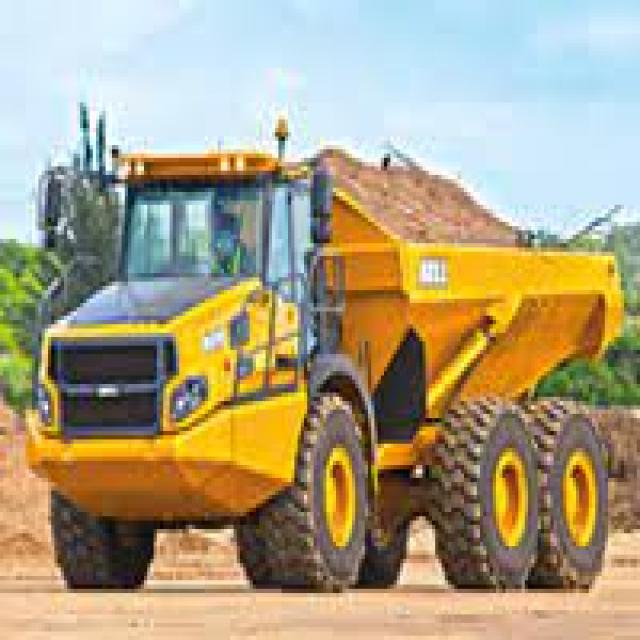dump_truck: (13, 89, 627, 602)
